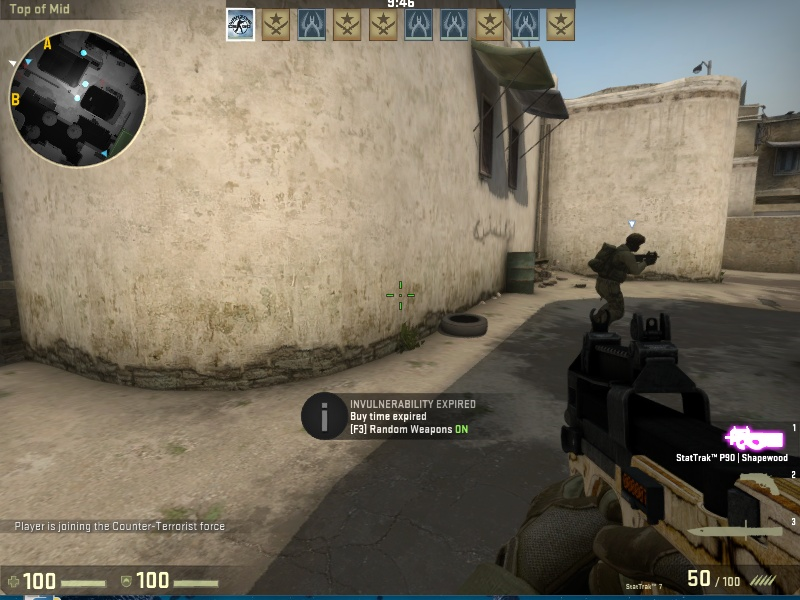c 0.70: (596, 231, 648, 325)
ch 0.82: (619, 230, 649, 255)
